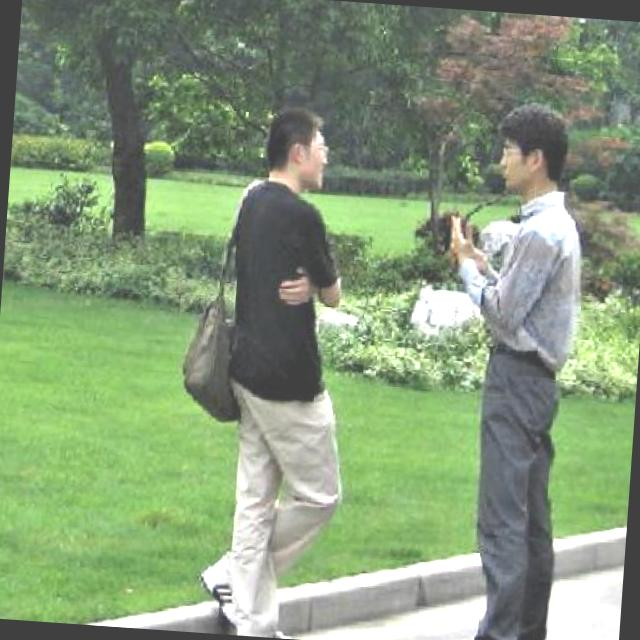Person: (411, 85, 594, 640), (192, 103, 367, 640)
